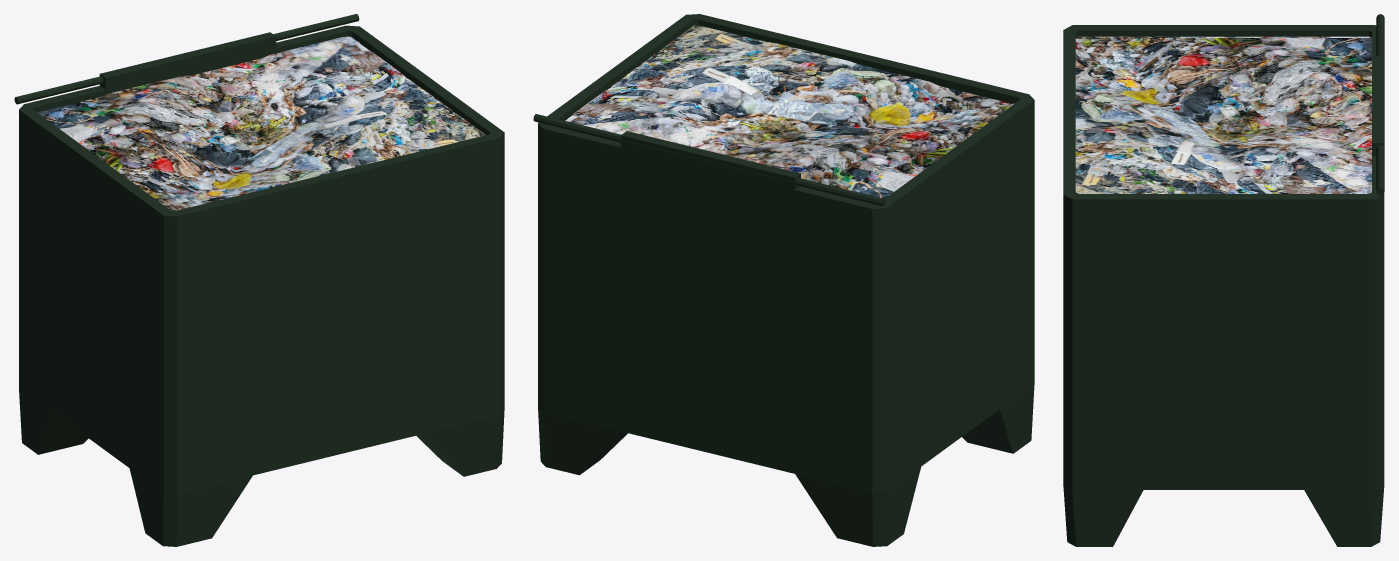
File: TrashBox.fbx
3 renders of one model, left to right at view 1: azimuth 30°, elevation 25°; view 2: azimuth 150°, elevation 25°; view 3: azimuth 270°, elevation 25°, orthographic. The views are drawn at different scales.
Visible parts, largest first — view 1: Bin; view 2: Bin; view 3: Bin.
Part boxes in pixels (left/top/right/bottom): Bin: left=14, top=14, right=504, bottom=546; Bin: left=533, top=14, right=1034, bottom=546; Bin: left=1063, top=14, right=1384, bottom=546.
Bounding box in the file's own units: 100 × 96.46 × 77.93.
